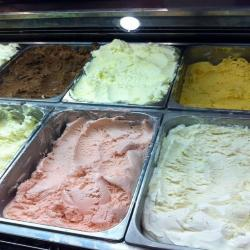icecream: (14, 112, 148, 242), (147, 121, 250, 247), (70, 39, 175, 112), (3, 34, 96, 103), (175, 41, 250, 116)
